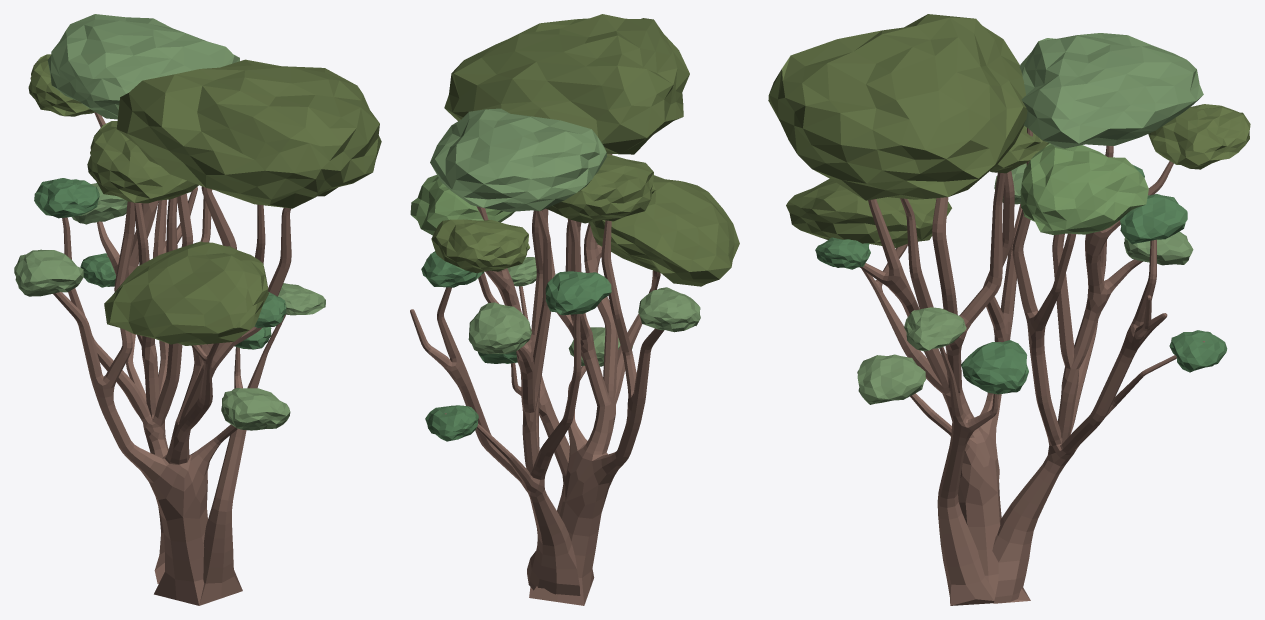
File: Tree2.fbx
3 renders of one model, left to right at view 1: azimuth 30°, elevation 25°; view 2: azimuth 150°, elevation 25°; view 3: azimuth 270°, elevation 25°, orthographic. The views are drawn at different scales.
Parts seen in each view (by area): view 1: Cube, Icosphere.001, Icosphere.007, Icosphere.004, Icosphere, Icosphere.008, Icosphere.009, Icosphere.013, Icosphere.006, Icosphere.011, Icosphere.014, Icosphere.012 (+1 smaller); view 2: Cube, Icosphere.001, Icosphere.004, Icosphere.007, Icosphere, Icosphere.006, Icosphere.014, Icosphere.003, Icosphere.013, Icosphere.008, Icosphere.012, Icosphere.005 (+2 smaller); view 3: Cube, Icosphere.001, Icosphere.004, Icosphere.003, Icosphere.007, Icosphere.006, Icosphere.010, Icosphere.009, Icosphere.005, Icosphere.011, Icosphere.012, Icosphere.014 (+2 smaller).
Part boxes in pixels (x1,y1,x2,y2): Cube: [53, 112, 291, 605]; Icosphere.001: [116, 59, 381, 208]; Icosphere.007: [104, 241, 268, 345]; Icosphere.004: [47, 14, 239, 119]; Icosphere: [87, 121, 198, 203]; Icosphere.008: [14, 249, 83, 296]; Icosphere.009: [221, 388, 290, 430]; Icosphere.013: [34, 178, 99, 218]; Icosphere.006: [28, 54, 94, 116]; Icosphere.011: [278, 283, 325, 315]; Icosphere.014: [72, 183, 127, 224]; Icosphere.012: [80, 253, 115, 287]; Cube: [410, 154, 663, 605]; Icosphere.001: [444, 14, 689, 154]; Icosphere.004: [430, 108, 607, 211]; Icosphere.007: [589, 175, 739, 286]; Icosphere: [546, 154, 655, 223]; Icosphere.006: [431, 219, 529, 273]; Icosphere.014: [468, 302, 531, 353]; Icosphere.003: [410, 175, 514, 235]; Icosphere.013: [545, 271, 611, 315]; Icosphere.008: [638, 287, 700, 332]; Icosphere.012: [425, 405, 478, 441]; Icosphere.005: [421, 251, 483, 287]; Cube: [860, 128, 1204, 605]; Icosphere.001: [768, 14, 1027, 200]; Icosphere.004: [1019, 33, 1203, 148]; Icosphere.003: [1020, 143, 1148, 235]; Icosphere.007: [786, 178, 951, 248]; Icosphere.006: [1148, 104, 1250, 169]; Icosphere.010: [961, 340, 1028, 394]; Icosphere.009: [857, 354, 925, 404]; Icosphere.005: [1120, 194, 1187, 244]; Icosphere.011: [904, 307, 966, 351]; Icosphere.012: [1169, 330, 1227, 372]; Icosphere.014: [1124, 231, 1193, 265].
Size of the model in its own units: 476 by 839 by 652.
